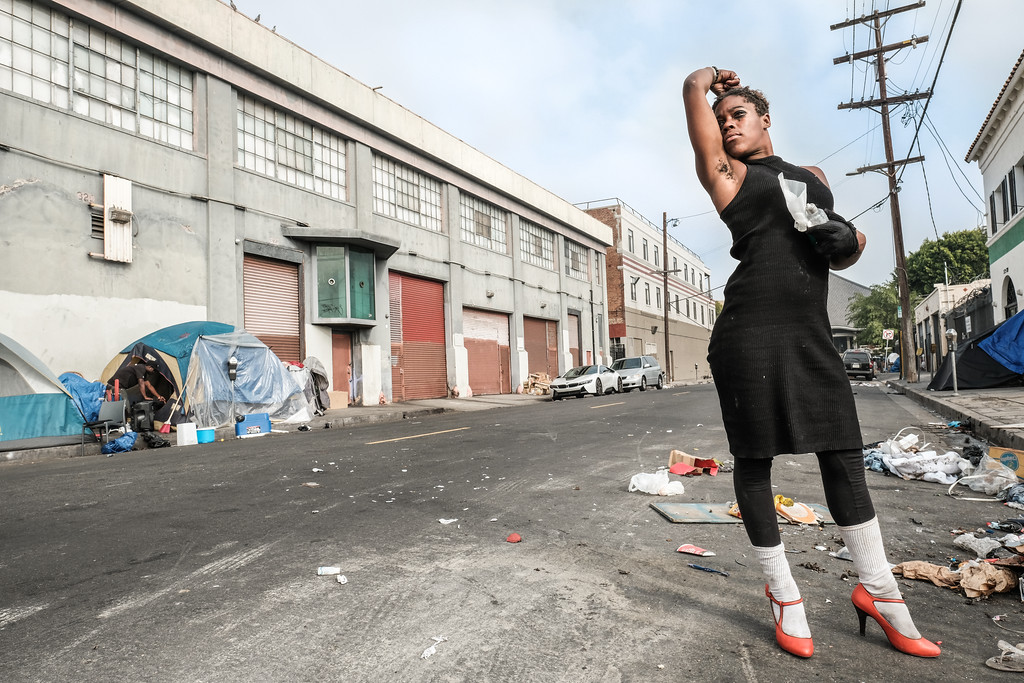person: (680, 40, 949, 661)
